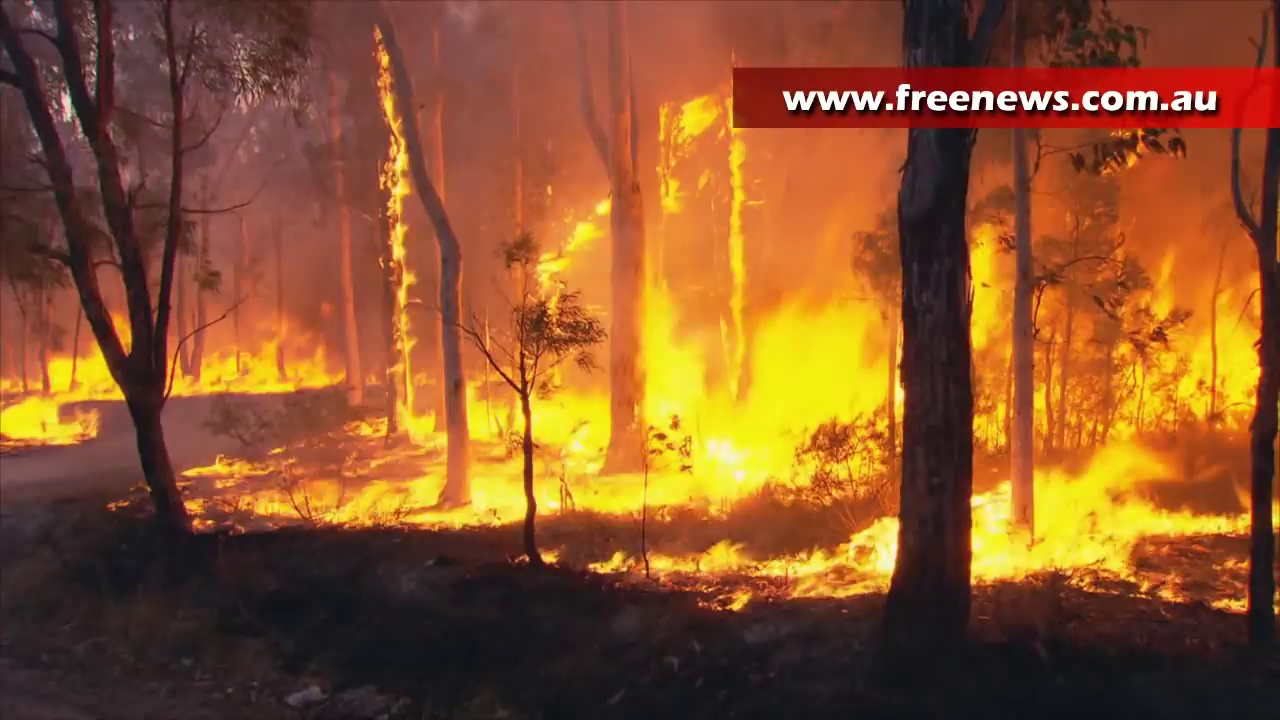fire: (640, 289, 902, 482), (971, 468, 1231, 582), (407, 431, 618, 522), (678, 540, 895, 590), (1193, 312, 1256, 419), (260, 481, 403, 527), (195, 340, 328, 389), (389, 127, 409, 420), (2, 396, 74, 443), (542, 220, 600, 278), (48, 354, 112, 396), (681, 92, 720, 137), (189, 456, 268, 477), (731, 132, 741, 276), (377, 53, 394, 122), (662, 172, 676, 209)
